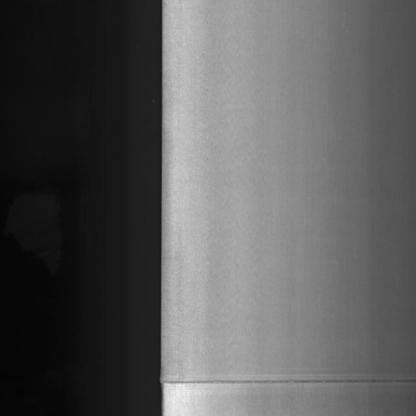welding_line: (160, 368, 415, 392)
